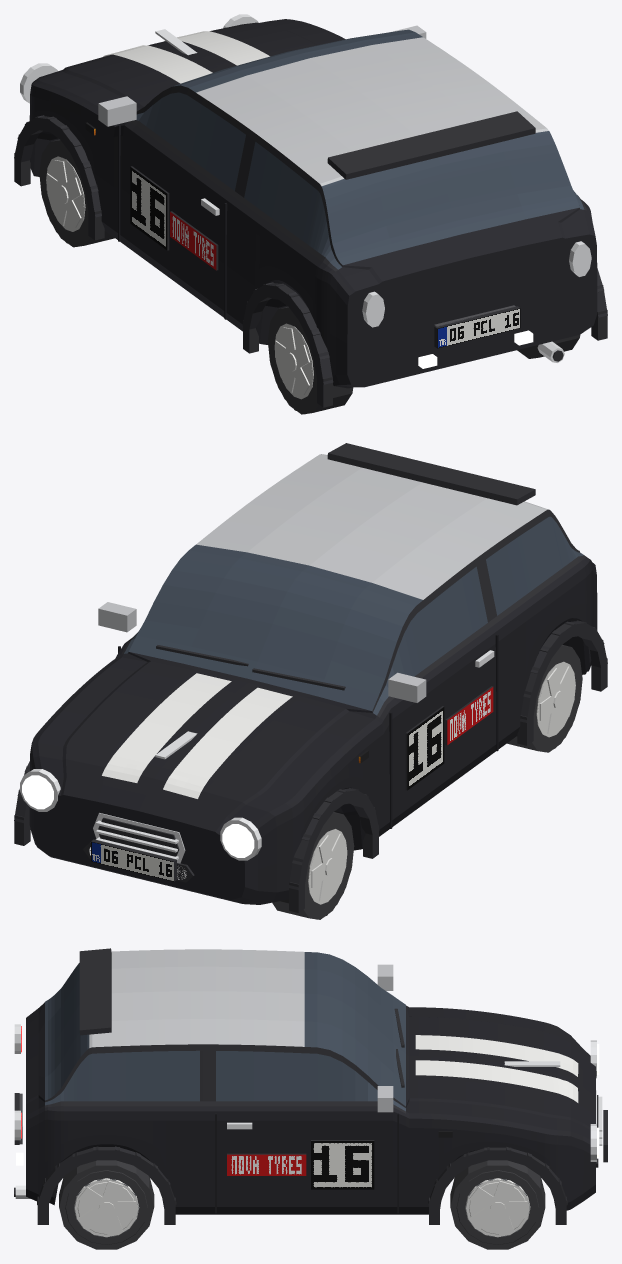
The model's file is piccolo.glb.
3 views of the same model, one above another, from view 1: azimuth 30°, elevation 25°; view 2: azimuth 150°, elevation 25°; view 3: azimuth 270°, elevation 25° (orthographic). The views are drawn at different scales.
Parts seen in each view (by area): view 1: body.013, livery.013, wheel_RL.013, wheel_FL.013; view 2: body.013, livery.013, wheel_FL.013, wheel_RL.013; view 3: body.013, livery.013, wheel_FR.013, wheel_RR.013.
Boxes of the visible parts, left/top/right/bottom form: body.013: left=14, top=14, right=607, bottom=407; livery.013: left=103, top=31, right=269, bottom=270; wheel_RL.013: left=267, top=306, right=353, bottom=414; wheel_FL.013: left=39, top=139, right=114, bottom=247; body.013: left=14, top=443, right=607, bottom=912; livery.013: left=102, top=673, right=493, bottom=798; wheel_FL.013: left=272, top=812, right=354, bottom=919; wheel_RL.013: left=507, top=644, right=582, bottom=752; body.013: left=14, top=948, right=607, bottom=1224; livery.013: left=227, top=1035, right=578, bottom=1189; wheel_FR.013: left=450, top=1160, right=545, bottom=1249; wheel_RR.013: left=59, top=1160, right=154, bottom=1249.
Bounding box in the file's own units: 1.99 × 1.45 × 3.75.
Materials: 17 (6 with a texture image).
